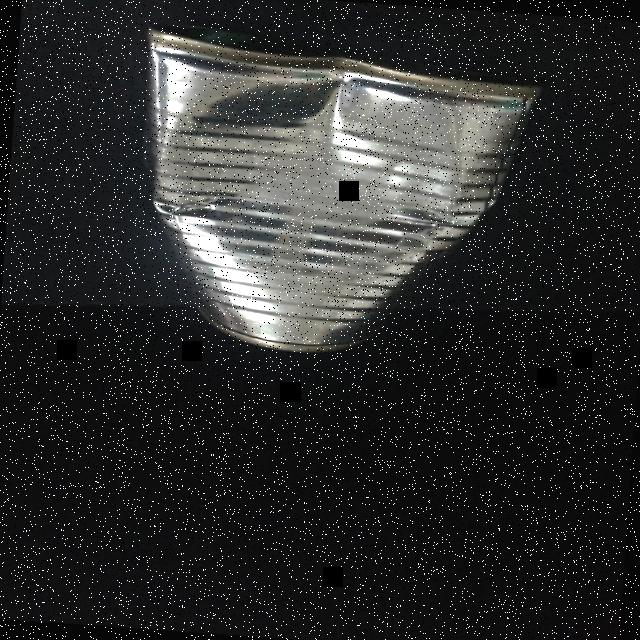can: (124, 14, 550, 370)
